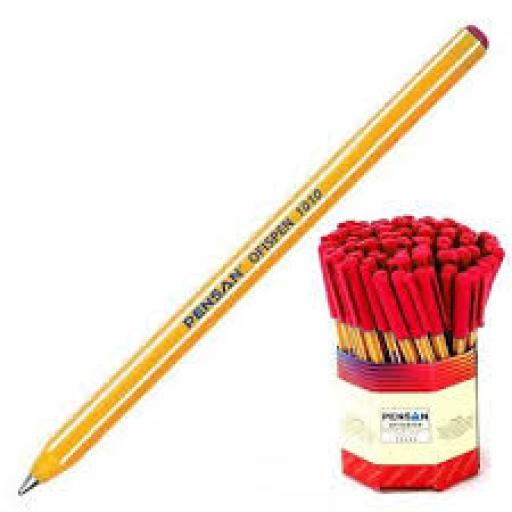tukenmez-kalem: (0, 339, 212, 510), (314, 218, 512, 388)
